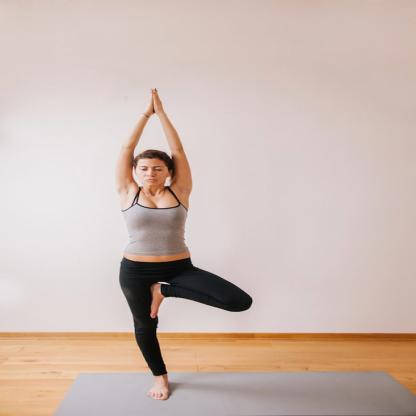tree: (102, 80, 262, 404)
